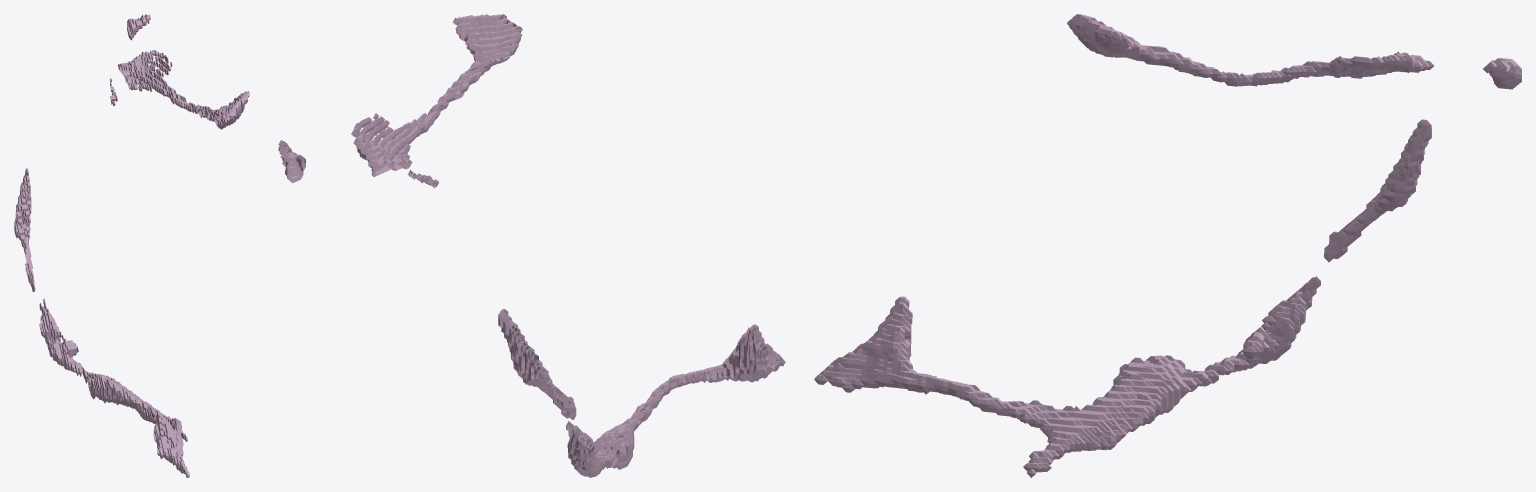
File: SVV_RIPL.gltf
3 renders of one model, left to right at view 1: azimuth 30°, elevation 25°; view 2: azimuth 150°, elevation 25°; view 3: azimuth 270°, elevation 25°, orthographic. The views are drawn at different scales.
Visible parts, largest first — view 1: RIPL; view 2: RIPL; view 3: RIPL.
Boxes of the visible parts, left/top/right/bottom form: RIPL: left=14, top=14, right=249, bottom=477; RIPL: left=278, top=14, right=785, bottom=477; RIPL: left=814, top=14, right=1521, bottom=477.
Size of the model in its own units: 47334 by 78477 by 97773.
